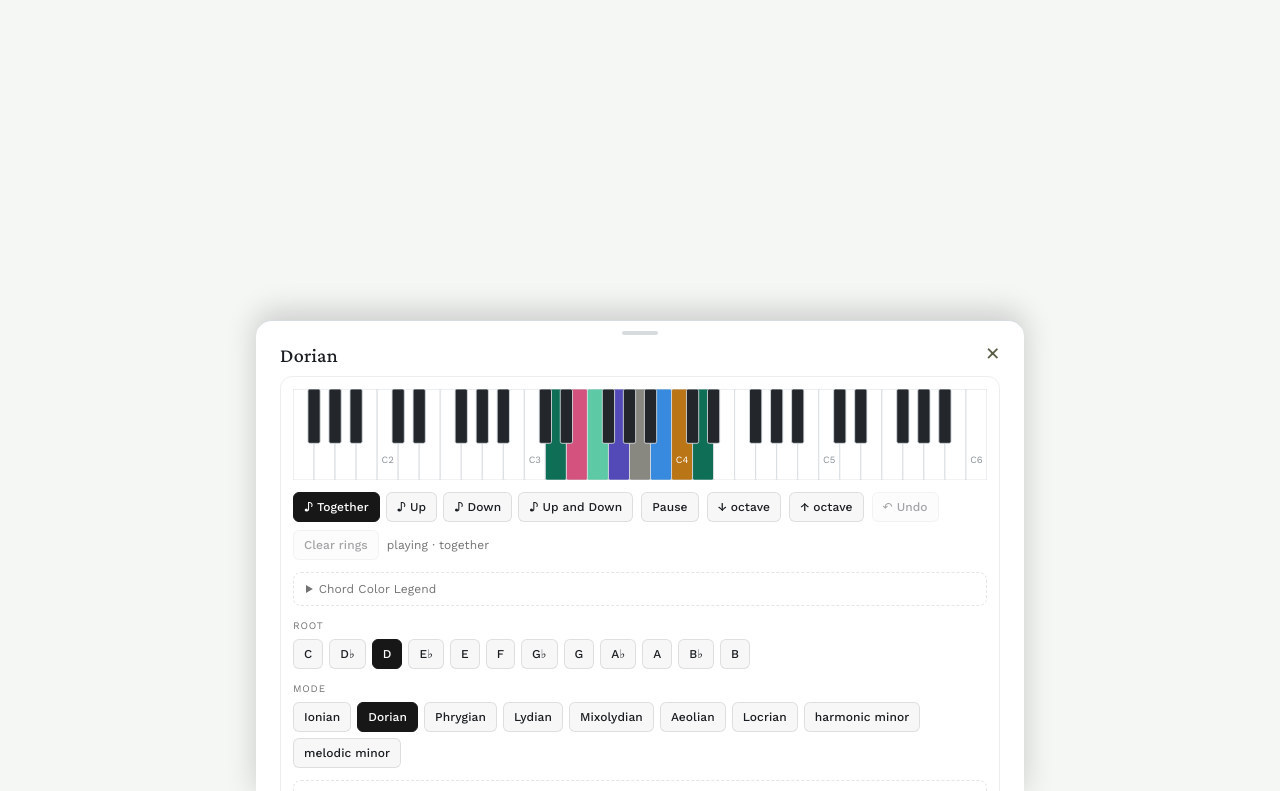
Test case: the card's own rows (spec §4) › a scale card has Root and Mode, and no Colour or Inversion
The image size is (1280, 791).
Click the button "Lydian": (533, 717) left=503, top=702, right=563, bottom=732
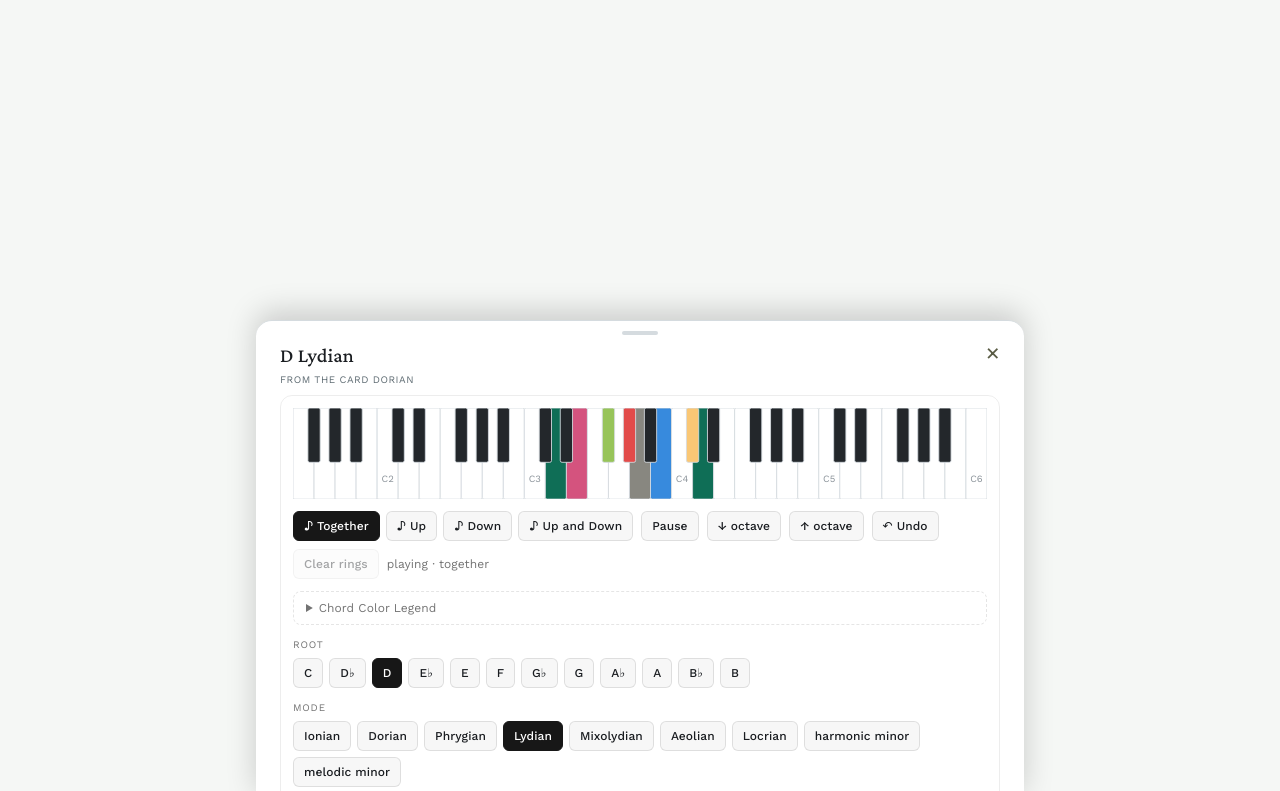
Now the heading "D Lydian" is shown, box left=280, top=344, right=354, bottom=366
Click the button "C": (308, 673) left=293, top=658, right=323, bottom=688
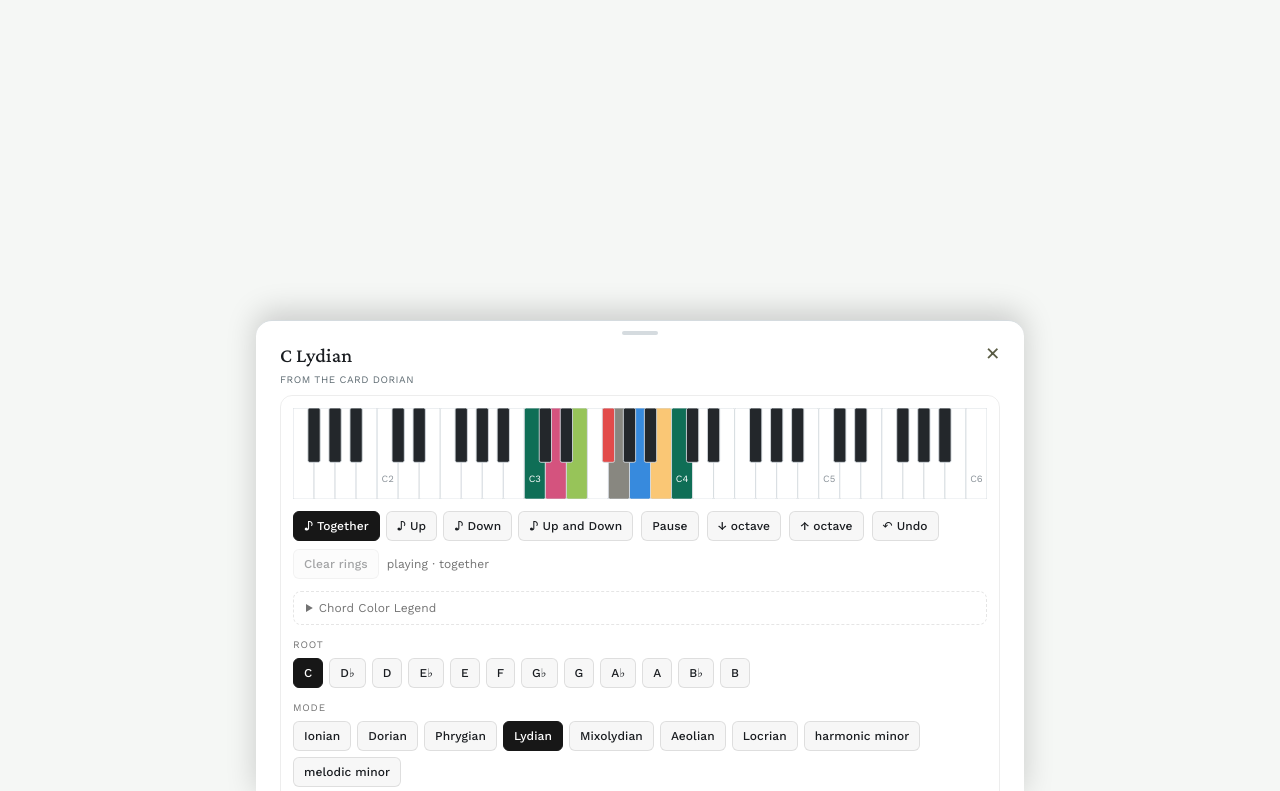
Now the heading "C Lydian" is shown, box left=280, top=344, right=352, bottom=366
